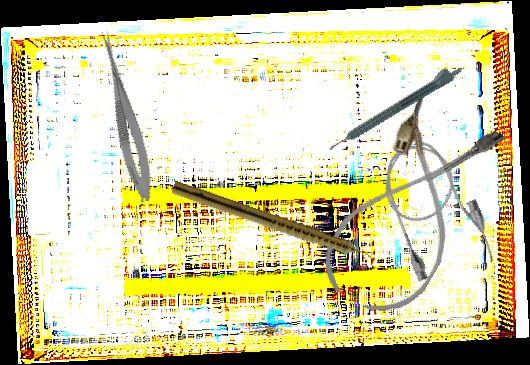Cannula: (310, 87, 512, 329), (370, 130, 500, 290)
Handpiece: (169, 179, 378, 268), (323, 59, 465, 154)
Micro Scissor: (89, 28, 160, 205)
